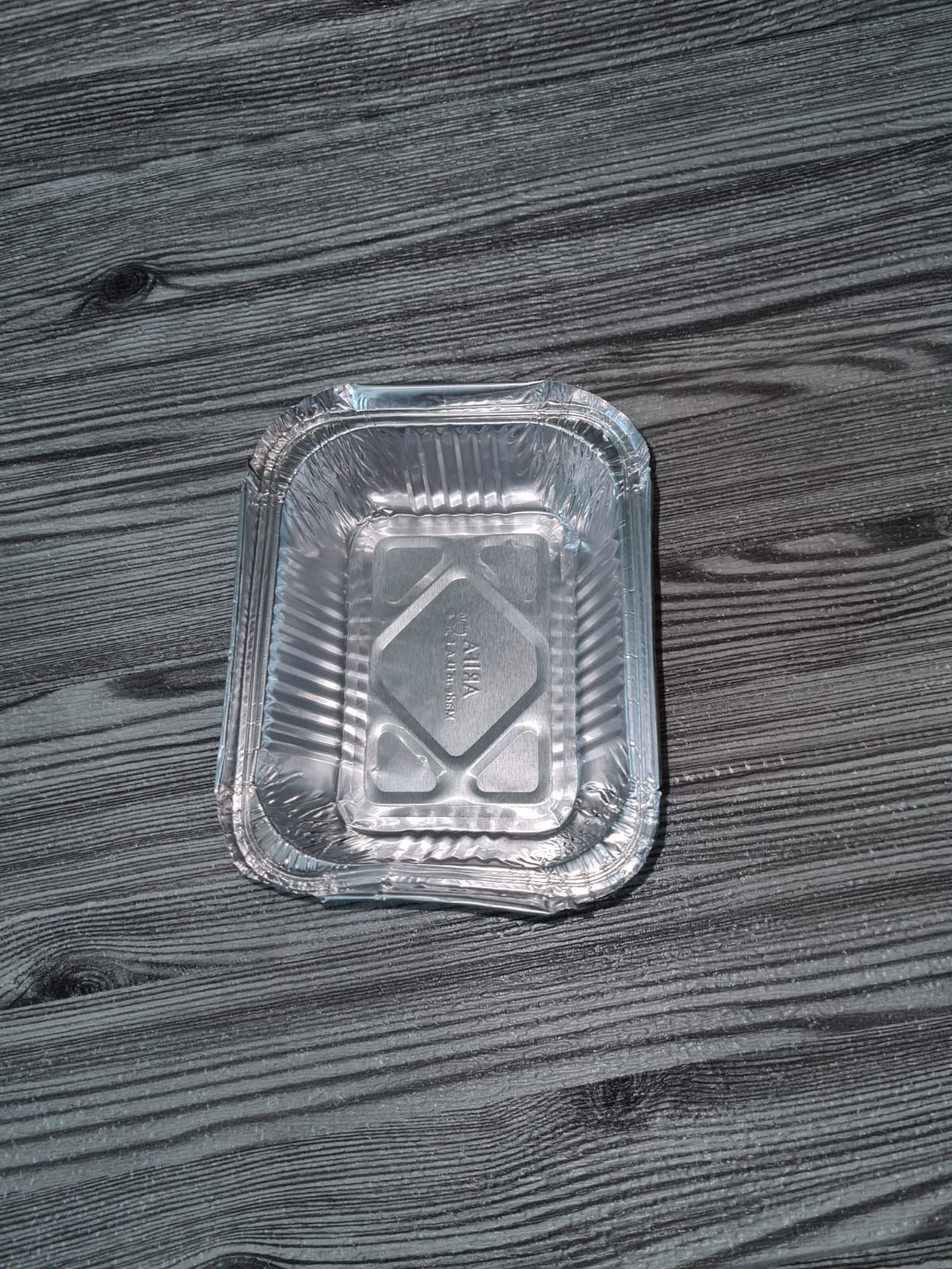Metal: (218, 386, 688, 918)
